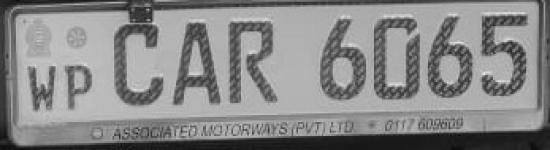0: (370, 11, 425, 106)
5: (479, 8, 533, 101)
6: (317, 9, 368, 109), (425, 14, 475, 105)
A: (173, 17, 224, 111)
C: (110, 22, 167, 111)
P: (60, 57, 94, 116)
R: (227, 14, 285, 111)
W: (21, 56, 59, 114)
